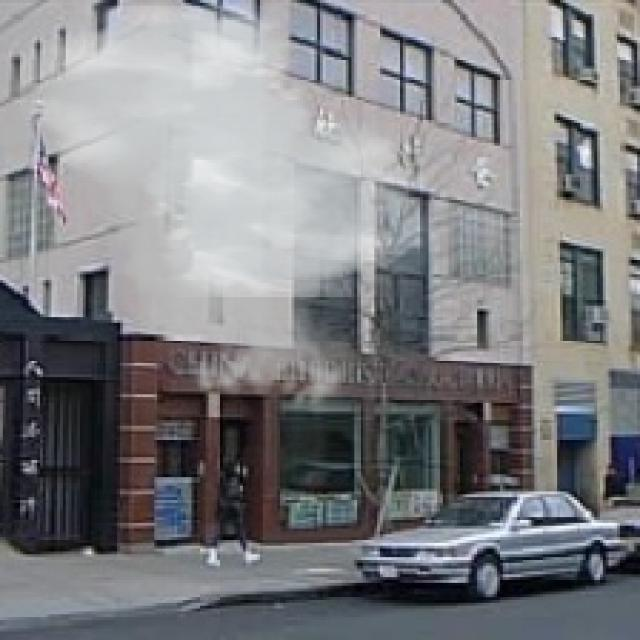smoke: (20, 6, 434, 420)
